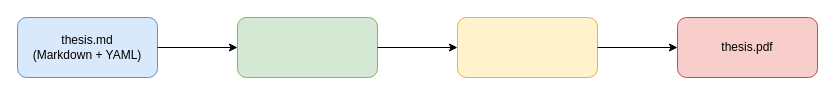
Some shapes in this 835 by 95 pixel diagram are drawn without their labels. Here are the shapes that lost their labels. From the top down, the centre of each, then its label:
point 307,47: Pandoc + Lua filters
point 527,47: LaTeX
